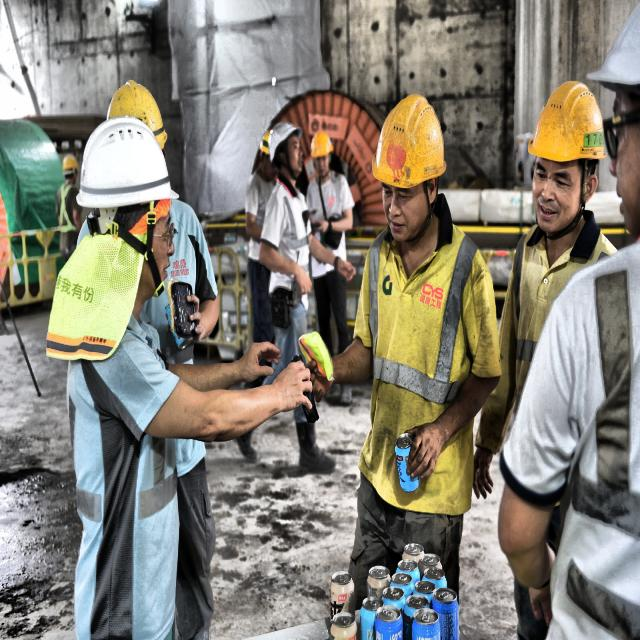safety_helmet: (45, 114, 180, 367), (370, 92, 450, 194), (529, 72, 606, 171), (258, 109, 305, 162)
safety_jacket: (344, 228, 506, 515), (58, 321, 196, 640), (555, 277, 640, 640), (269, 188, 313, 287)
